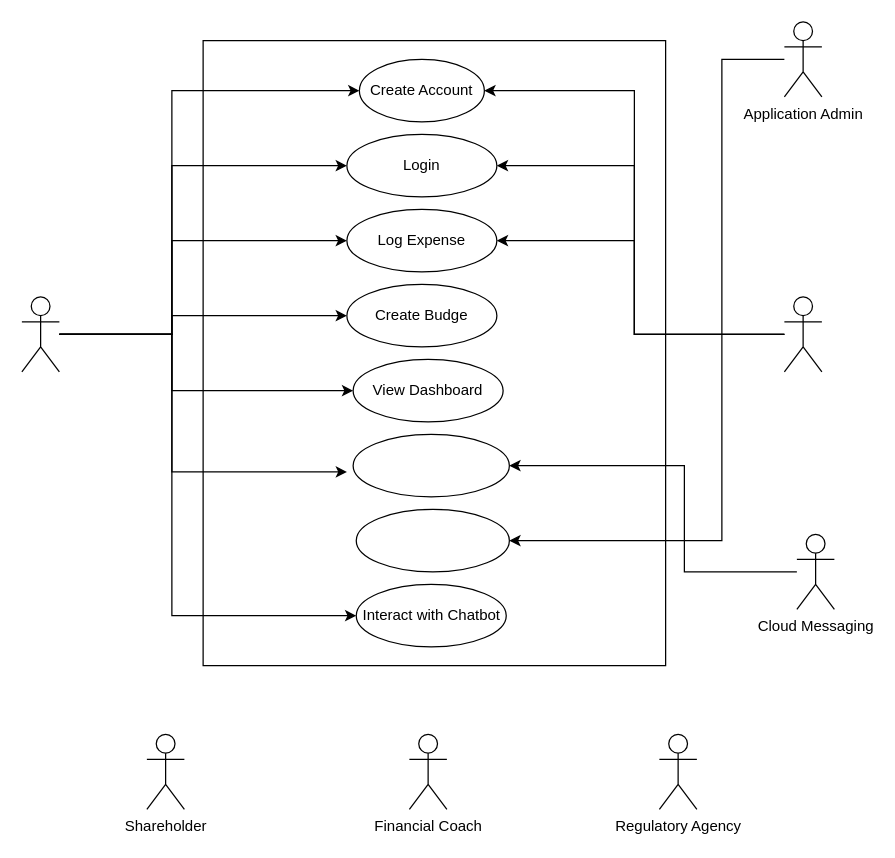
Image size: 895x858. Some labels were removed from this diagram. The box of each missing label's shape, as (x1, y1, x2, y2) in pixels:
Firebase: (783, 296, 822, 372)
Join/Manage Savings Circle: (352, 433, 509, 497)
Manage Users: (355, 508, 509, 572)
User: (21, 296, 59, 372)
